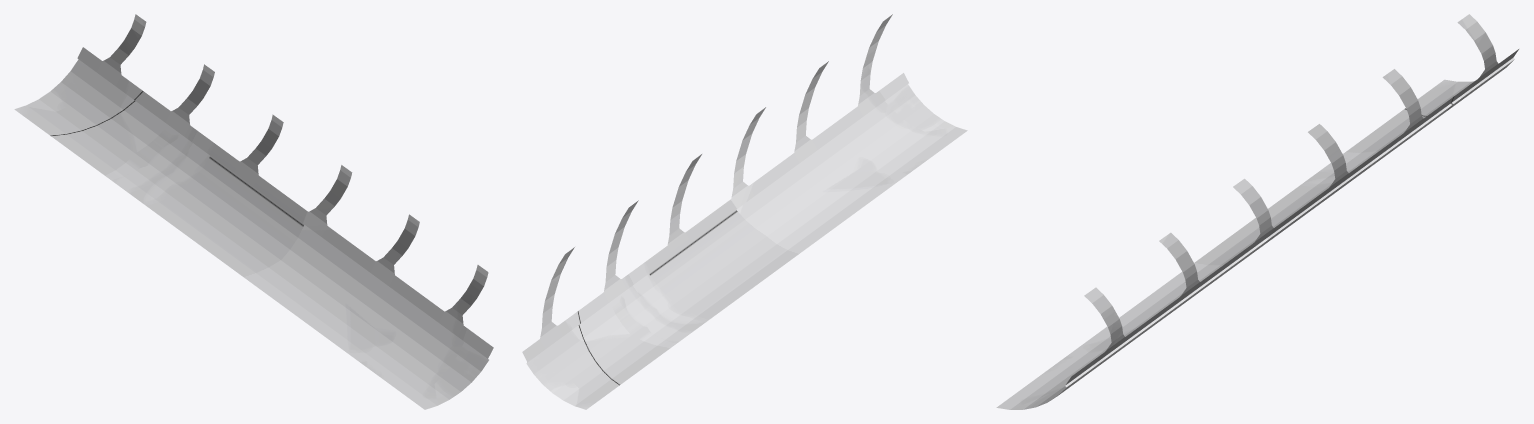
File: window3.fbx
3 views of the same model, side by side, from view 1: azimuth 30°, elevation 25°; view 2: azimuth 150°, elevation 25°; view 3: azimuth 330°, elevation 25° (orthographic). The views are drawn at different scales.
Parts seen in each view (by area): view 1: tank52_GEO1; view 2: tank52_GEO1; view 3: tank52_GEO1.
Boxes of the visible parts, x1,y1,x2,y2 form: tank52_GEO1: (14,14,493,409); tank52_GEO1: (522,14,967,409); tank52_GEO1: (996,14,1518,409).
Bounding box in the file's own units: 2.72 × 3.82 × 24.97.
Materials: 1 (1 with a texture image).
